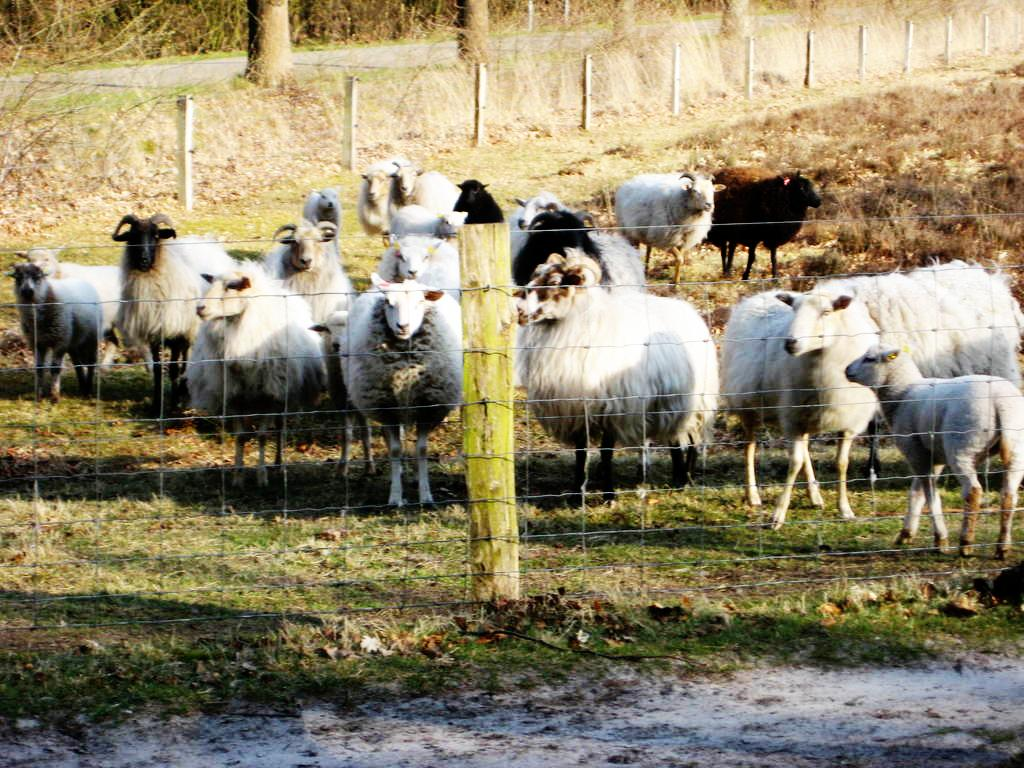Sheep: (513, 251, 721, 507), (718, 284, 886, 527), (181, 260, 332, 489), (844, 348, 1024, 538), (338, 269, 465, 510), (106, 209, 225, 388), (845, 267, 1012, 385), (611, 166, 725, 289), (703, 167, 823, 283), (9, 260, 105, 404), (262, 220, 352, 339), (512, 211, 607, 289), (376, 235, 461, 287), (391, 160, 464, 216), (509, 191, 571, 244), (355, 158, 392, 240), (386, 203, 468, 237), (455, 178, 508, 226)
